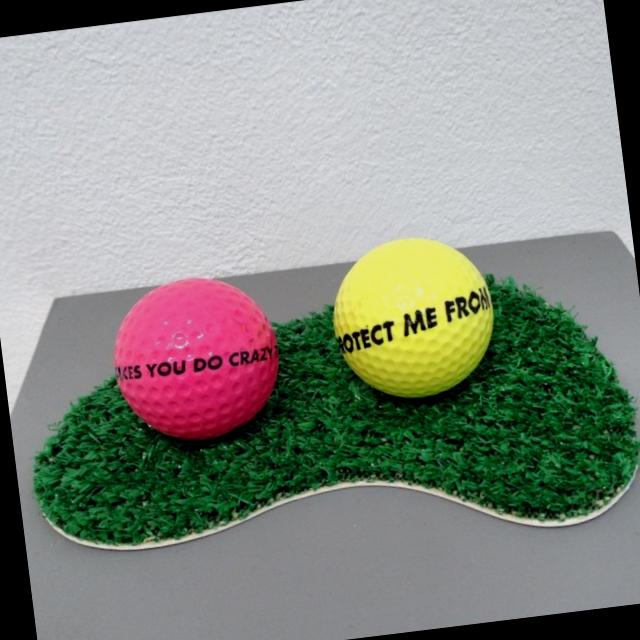Tennis ball: (102, 267, 290, 452), (322, 230, 500, 406)
